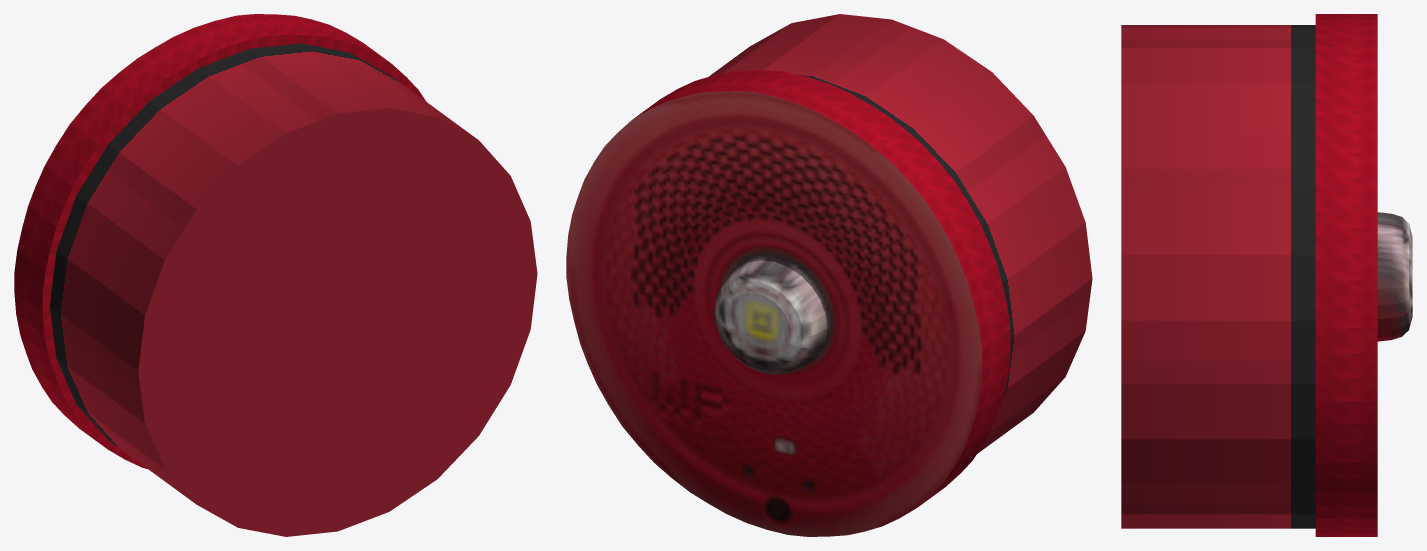
The model's file is systemsensor_lseries_led_speakerstrobe_ceiling_wp.obj.
The picture shows the model from 3 angles, left to right: view 1: azimuth 30°, elevation 25°; view 2: azimuth 150°, elevation 25°; view 3: azimuth 270°, elevation 25°; orthographic projection. The views are drawn at different scales.
Visible parts, largest first — view 1: lseries_led_speakerstrobe_ceiling_wp; view 2: lseries_led_speakerstrobe_ceiling_wp; view 3: lseries_led_speakerstrobe_ceiling_wp.
Boxes of the visible parts, x1,y1,x2,y2 form: lseries_led_speakerstrobe_ceiling_wp: (14, 14, 537, 536); lseries_led_speakerstrobe_ceiling_wp: (566, 14, 1092, 536); lseries_led_speakerstrobe_ceiling_wp: (1121, 14, 1412, 536).
Size of the model in its own units: 0.8426 by 0.8426 by 0.4688.
